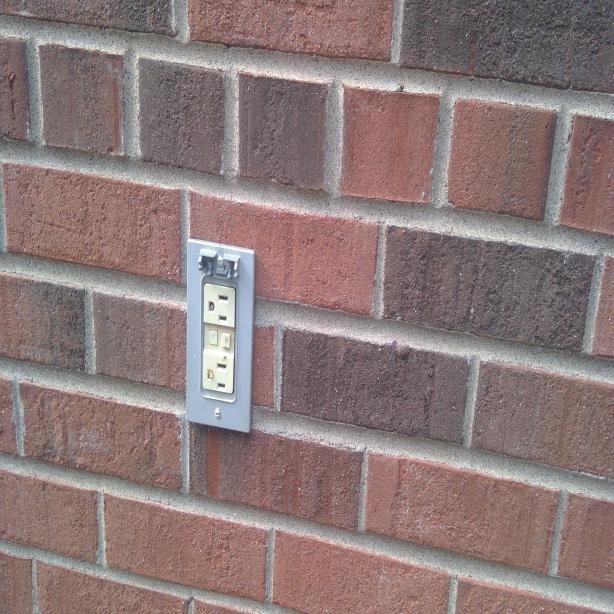typeb: (204, 284, 234, 330), (203, 350, 230, 390)
